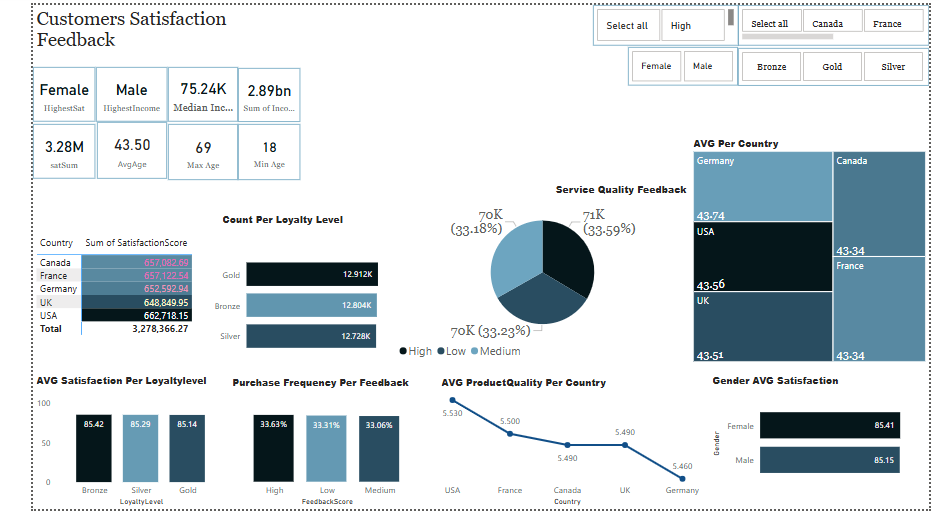

This screenshot's page, from the dashboard's own definition file:
{"tool":"powerbi","page":{"name":"Page 1","canvas":[1280,720],"ordinal":0},"visuals":[{"type":"card","fields":{"Values":["Country.AvgAge"]},"box":[90.8,166.5,100.5,81.2],"z":0},{"type":"card","fields":{"Values":["Country.satSum"]},"box":[0,169.3,89.5,78.5],"z":1000},{"type":"card","fields":{"Values":["Country.Median Income"]},"box":[192.7,88.1,100.5,78.5],"z":2000},{"type":"card","fields":{"Values":["Sum(customer_feedback_satisfaction.Income)"]},"box":[293.2,89.5,89.5,77.1],"z":3000},{"type":"card","fields":{"Values":["Gender.Gender with Highest Income"]},"box":[89.5,88.1,101.8,78.5],"z":4000},{"type":"clusteredBarChart","fields":{"Category":["LoyaltyLevel.LoyaltyLevel"],"Y":["Gender.mLoyaltyLevel"]},"box":[250,337.1,294.3,177.1],"z":5000},{"type":"card","fields":{"Values":["Gender.GenderHighestSatisfaction"]},"box":[0,88.1,89.5,78.5],"z":6000},{"type":"clusteredColumnChart","fields":{"Category":["LoyaltyLevel.LoyaltyLevel"],"Y":["Country.Avg Satisfaction"]},"box":[0,548,280,172],"z":7000},{"type":"pivotTable","fields":{"Rows":["Country.Country"],"Values":["Sum(customer_feedback_satisfaction.SatisfactionScore)"]},"box":[0,324.3,250,190],"z":8000},{"type":"textbox","box":[0,521.4,267.1,34.3],"z":9000},{"type":"clusteredColumnChart","fields":{"Category":["FeedbackScore.FeedbackScore"],"Y":["Sum(customer_feedback_satisfaction.PurchaseFrequency)"]},"box":[280,548.6,281.4,171.4],"z":10000},{"type":"textbox","box":[280,524.3,281.4,31.4],"z":11000},{"type":"lineChart","fields":{"Category":["Country.Country"],"Y":["customer_feedback_satisfaction.AvgPQ"]},"box":[561.4,534.3,404.3,185.7],"z":12000},{"type":"clusteredBarChart","fields":{"Category":["Gender.Gender"],"Y":["Country.Avg Satisfaction"]},"box":[965.7,524.3,314.3,195.7],"z":13000},{"type":"textbox","box":[578.1,524.4,272.5,31.7],"z":14000},{"type":"textbox","box":[265.7,291.4,224.3,32.9],"z":15000},{"type":"treemap","fields":{"Group":["Country.Country"],"Values":["Country.AvgAge"]},"box":[938.6,204.3,341.4,310],"z":16000},{"type":"card","fields":{"Values":["Country.Min Age"]},"box":[293.2,169.3,89.5,79.8],"z":17000},{"type":"card","fields":{"Values":["Country.Max Age"]},"box":[192.7,169.3,100.5,79.8],"z":18000},{"type":"pieChart","fields":{"Category":["FeedbackScore.FeedbackScore"],"Y":["Sum(customer_feedback_satisfaction.ServiceQuality)"]},"box":[517.1,281.4,421.4,232.9],"z":19000},{"type":"textbox","box":[965.7,521.4,208.6,32.9],"z":20000},{"type":"textbox","box":[938.7,183.1,151.4,31.7],"z":21000},{"type":"textbox","box":[710,248.6,228.6,32.9],"z":22000},{"type":"advancedSlicerVisual","fields":{"Values":["Country.Country"]},"box":[1007.5,0,272.5,57.8],"z":23000},{"type":"advancedSlicerVisual","fields":{"Values":["LoyaltyLevel.LoyaltyLevel"]},"box":[1007.5,61.9,272.5,53.7],"z":24000},{"type":"advancedSlicerVisual","fields":{"Values":["FeedbackScore.FeedbackScore"]},"box":[799.7,0,207.8,57.8],"z":25000},{"type":"advancedSlicerVisual","fields":{"Values":["Gender.Gender"]},"box":[850.6,60.6,156.9,55.1],"z":26000},{"type":"textbox","box":[0,0,293.2,77.1],"z":27000}]}

Visuals, with their boxes in screenshot pixels (x1, y1, x2, y2), scaled from the page's 1280x720 canvas onto the 939x515 screenshot:
card - Country.AvgAge: select_region(67, 119, 140, 177)
card - Country.satSum: select_region(0, 121, 66, 177)
card - Country.Median Income: select_region(141, 63, 215, 119)
card - Sum(customer_feedback_satisfaction.Income): select_region(215, 64, 281, 119)
card - Gender.Gender with Highest Income: select_region(66, 63, 140, 119)
clusteredBarChart - LoyaltyLevel.LoyaltyLevel x Gender.mLoyaltyLevel: select_region(183, 241, 399, 368)
card - Gender.GenderHighestSatisfaction: select_region(0, 63, 66, 119)
clusteredColumnChart - LoyaltyLevel.LoyaltyLevel x Country.Avg Satisfaction: select_region(0, 392, 205, 514)
pivotTable - Country.Country x Sum(customer_feedback_satisfaction.SatisfactionScore): select_region(0, 232, 183, 368)
textbox: select_region(0, 373, 196, 397)
clusteredColumnChart - FeedbackScore.FeedbackScore x Sum(customer_feedback_satisfaction.PurchaseFrequency): select_region(205, 392, 412, 514)
textbox: select_region(205, 375, 412, 397)
lineChart - Country.Country x customer_feedback_satisfaction.AvgPQ: select_region(412, 382, 708, 514)
clusteredBarChart - Gender.Gender x Country.Avg Satisfaction: select_region(708, 375, 938, 514)
textbox: select_region(424, 375, 624, 398)
textbox: select_region(195, 208, 359, 232)
treemap - Country.Country x Country.AvgAge: select_region(689, 146, 938, 368)
card - Country.Min Age: select_region(215, 121, 281, 178)
card - Country.Max Age: select_region(141, 121, 215, 178)
pieChart - FeedbackScore.FeedbackScore x Sum(customer_feedback_satisfaction.ServiceQuality): select_region(379, 201, 688, 368)
textbox: select_region(708, 373, 861, 396)
textbox: select_region(689, 131, 800, 154)
textbox: select_region(521, 178, 689, 201)
advancedSlicerVisual - Country.Country: select_region(739, 0, 938, 41)
advancedSlicerVisual - LoyaltyLevel.LoyaltyLevel: select_region(739, 44, 938, 83)
advancedSlicerVisual - FeedbackScore.FeedbackScore: select_region(587, 0, 739, 41)
advancedSlicerVisual - Gender.Gender: select_region(624, 43, 739, 83)
textbox: select_region(0, 0, 215, 55)
